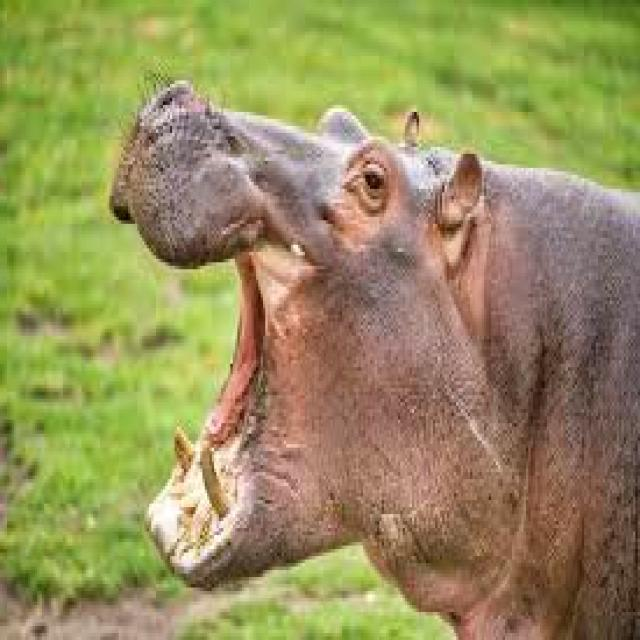hippopotamus: (112, 80, 640, 637)
